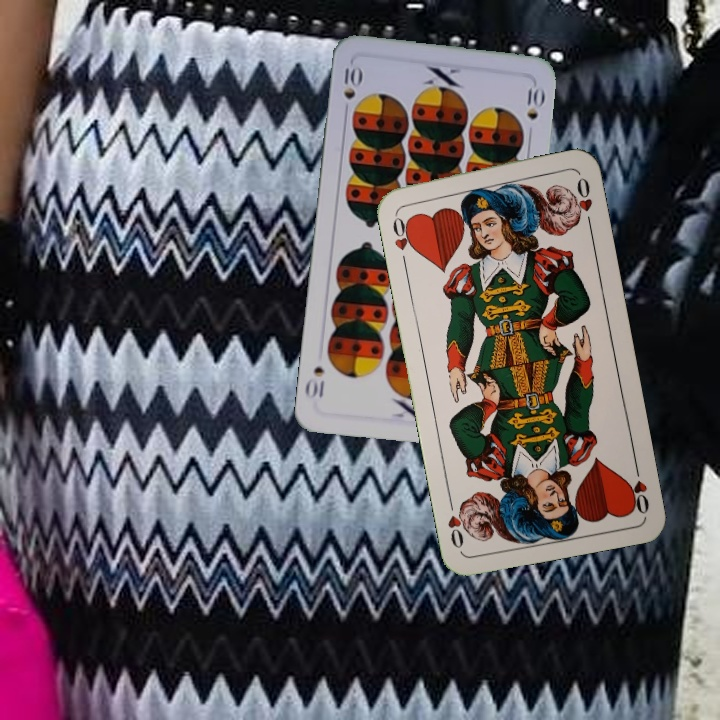HO: (389, 207, 418, 267), (623, 458, 652, 517)
S10: (340, 59, 363, 118)
